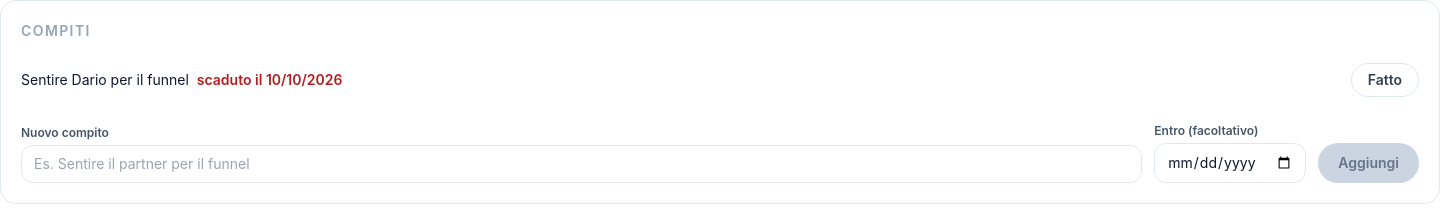
Test case: «Fatto» chiude il compito e ricarica
The image size is (1440, 221).
What coordinates should you click on to do the following:
click the button with aria-label "Segna come fatto"
I would click on:
 (1385, 80)
Its box is [1351,63,1419,97].
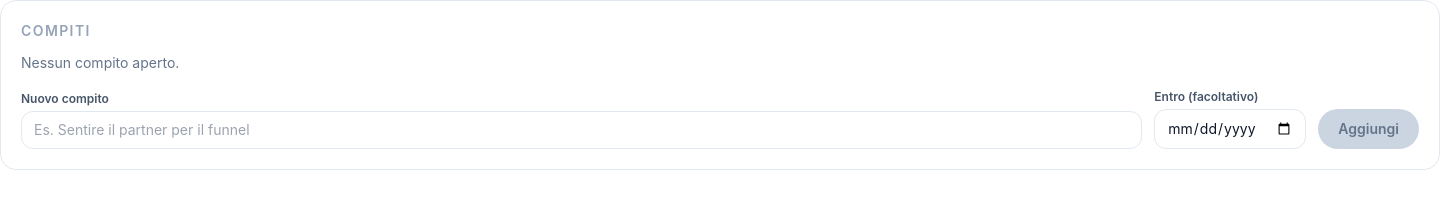
Expected: the text "Nessun compito aperto." is shown, [21,54,179,71]
